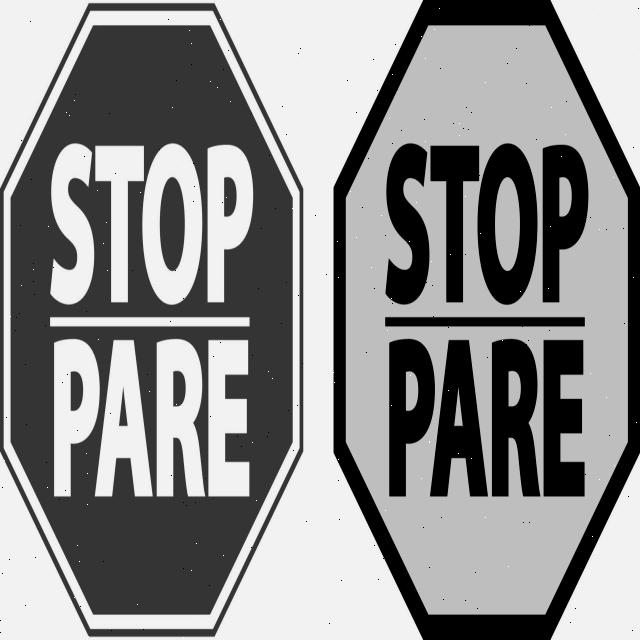Stop-sign: (0, 0, 313, 627)
